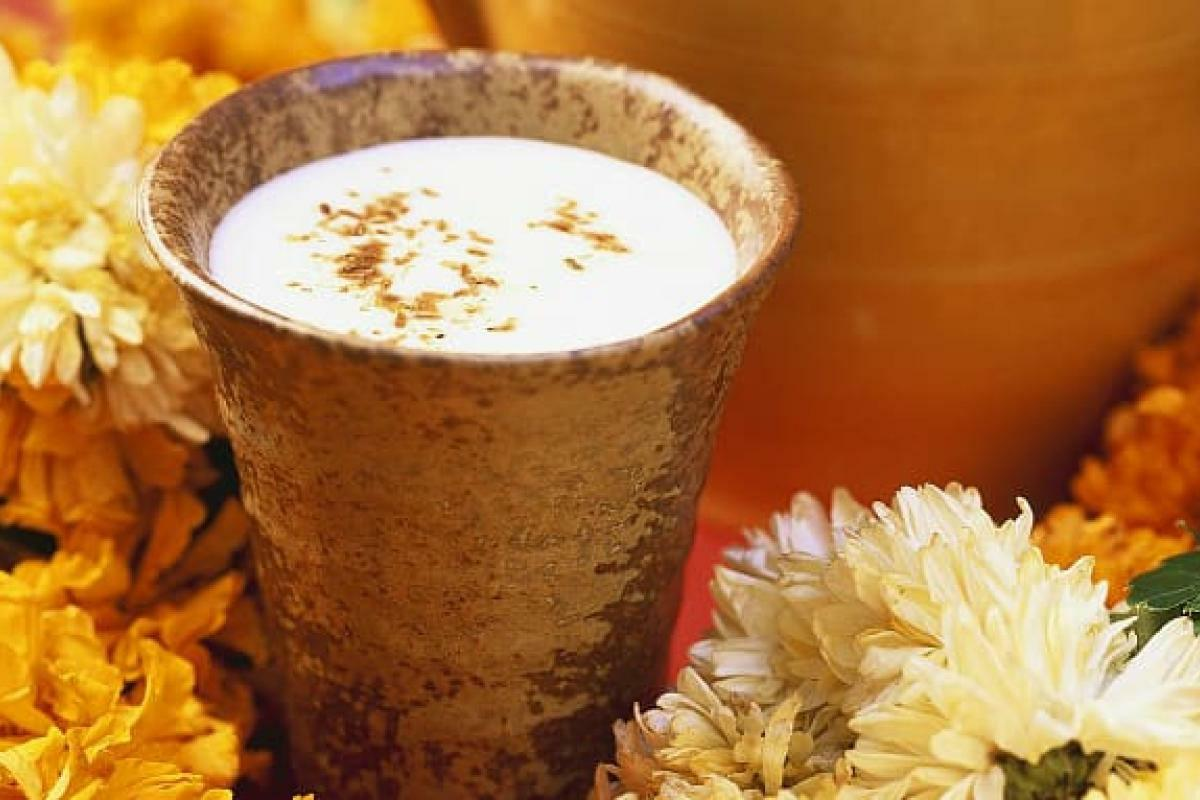Lassi: (206, 136, 741, 356)
